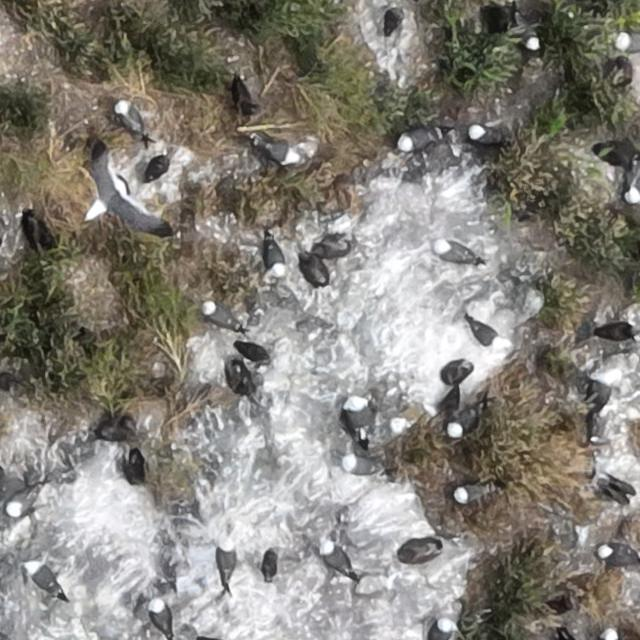F: (85, 158, 160, 224), (345, 392, 371, 442), (430, 618, 452, 638)
umineko: (320, 537, 352, 574), (115, 99, 146, 137), (467, 319, 507, 348), (400, 125, 445, 150), (516, 15, 540, 52), (29, 566, 59, 594), (259, 142, 297, 164), (398, 541, 438, 561), (206, 303, 237, 327), (448, 414, 479, 438), (342, 455, 380, 474), (436, 242, 472, 262), (469, 126, 507, 144), (152, 602, 171, 634), (8, 491, 33, 515), (266, 243, 284, 276), (456, 484, 488, 502), (220, 544, 236, 580), (615, 33, 640, 52), (600, 546, 628, 562), (599, 628, 617, 639)
